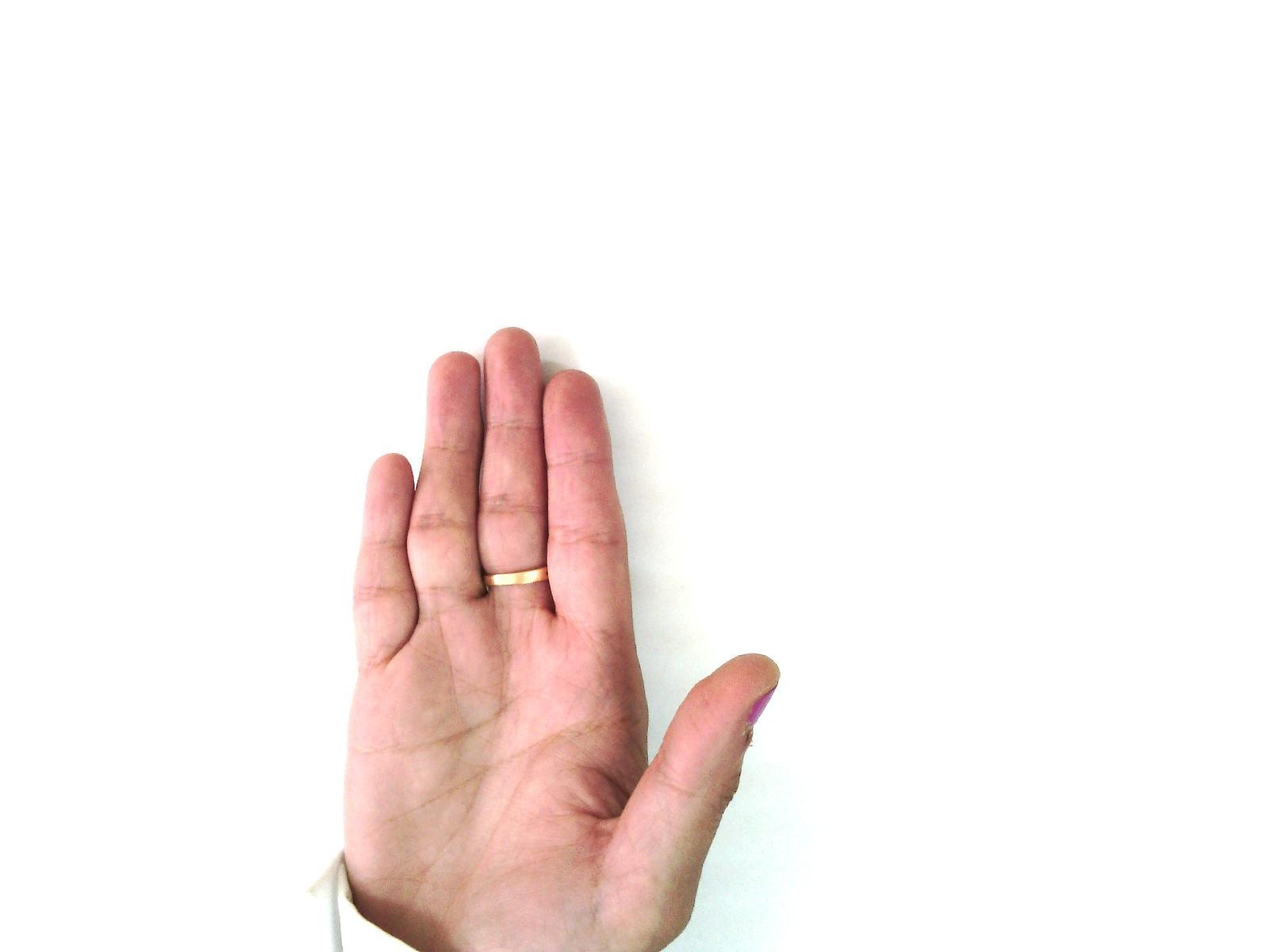open_palm: (333, 326, 783, 951)
